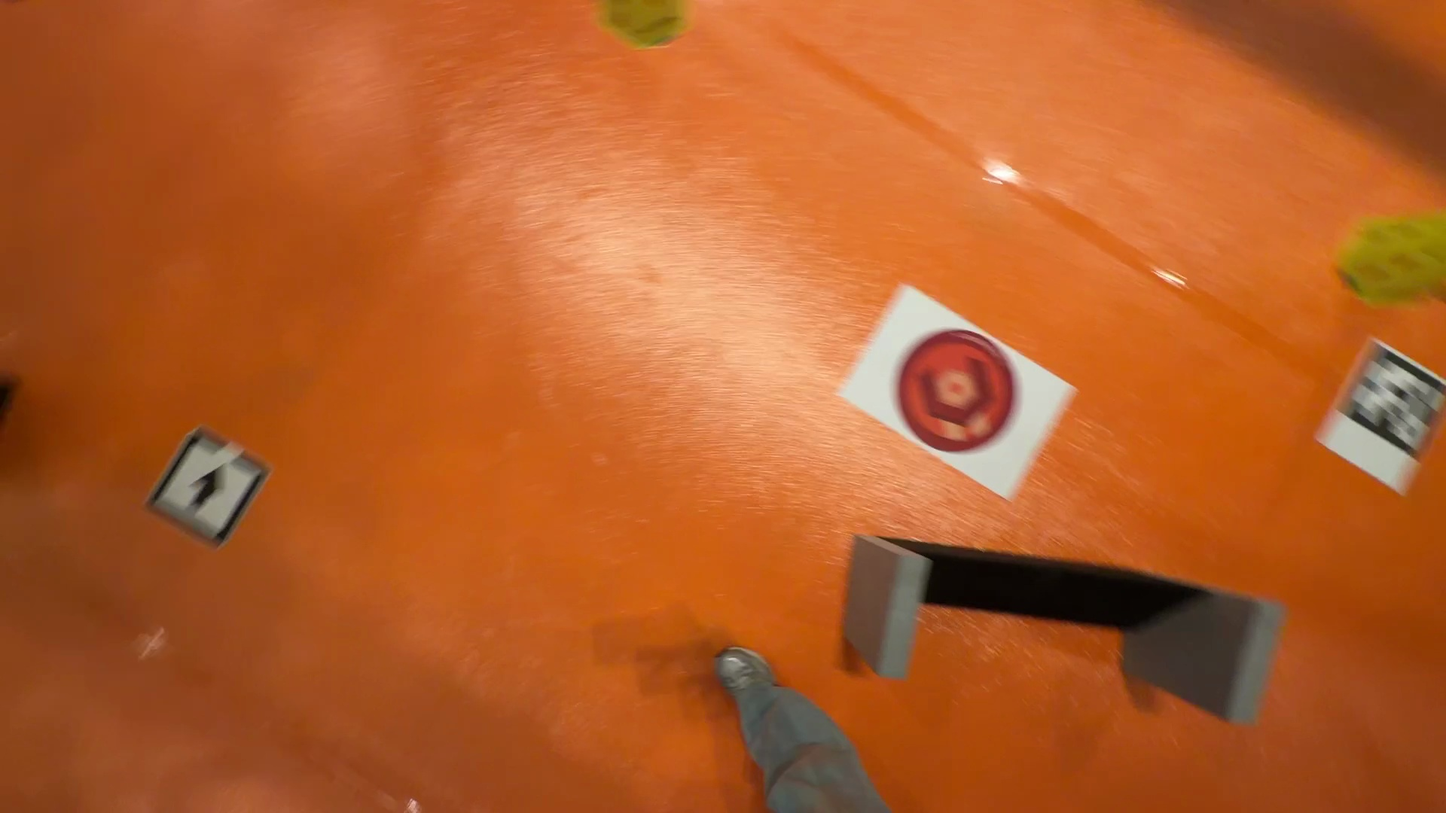landing_pad: (898, 331, 1017, 455)
